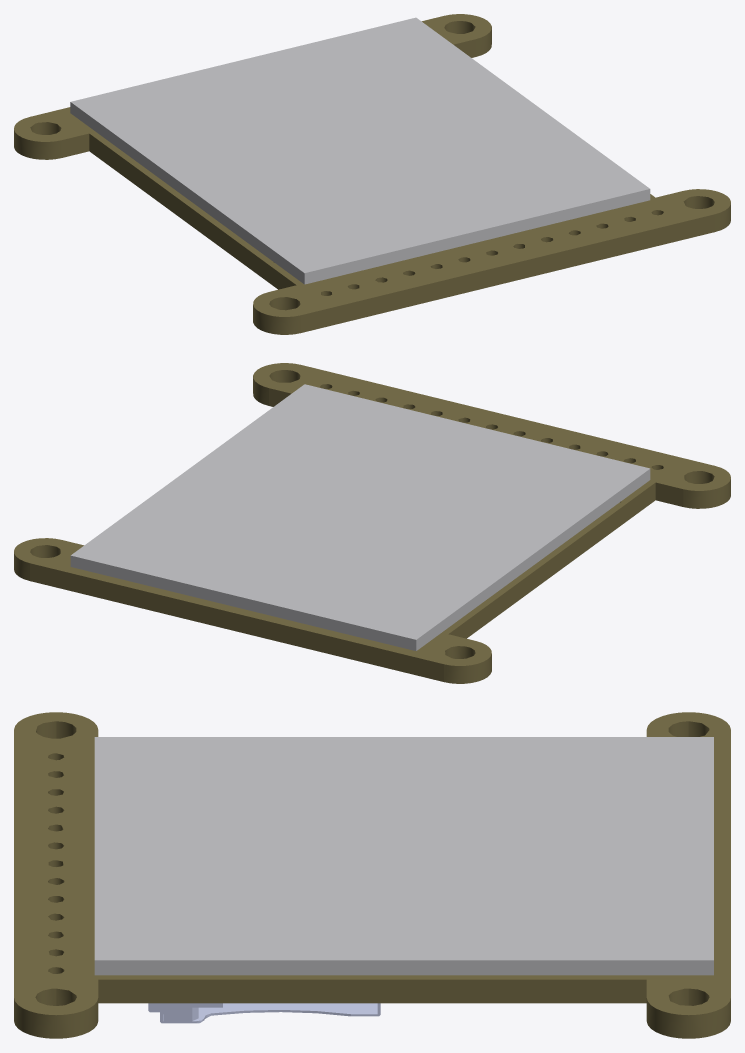
The model's file is ada-4196.glb.
3 views of the same model, one above another, from view 1: azimuth 30°, elevation 25°; view 2: azimuth 150°, elevation 25°; view 3: azimuth 270°, elevation 25° (orthographic). The views are drawn at different scales.
Parts seen in each view (by area): view 1: 0.5833333333333334_0.5833333333333334_0.5833333333333334_0.8, 0.16666666666666666_0.16666666666666666_0.08333333333333333_; view 2: 0.5833333333333334_0.5833333333333334_0.5833333333333334_0.8, 0.16666666666666666_0.16666666666666666_0.08333333333333333_; view 3: 0.5833333333333334_0.5833333333333334_0.5833333333333334_0.8, 0.16666666666666666_0.16666666666666666_0.08333333333333333_, 0.5833333333333334_0.6666666666666666_0.8333333333333334_0.
Boxes of the visible parts, <box> form: 0.5833333333333334_0.5833333333333334_0.5833333333333334_0.8: <box>70,17,650,284</box>; 0.16666666666666666_0.16666666666666666_0.08333333333333333_: <box>14,14,730,334</box>; 0.5833333333333334_0.5833333333333334_0.5833333333333334_0.8: <box>70,384,650,650</box>; 0.16666666666666666_0.16666666666666666_0.08333333333333333_: <box>14,363,730,683</box>; 0.5833333333333334_0.5833333333333334_0.5833333333333334_0.8: <box>94,737,713,975</box>; 0.16666666666666666_0.16666666666666666_0.08333333333333333_: <box>14,712,730,1038</box>; 0.5833333333333334_0.6666666666666666_0.8333333333333334_0: <box>148,1003,380,1023</box>.
Size of the model in its own units: 4.32 by 0.445 by 4.32.
